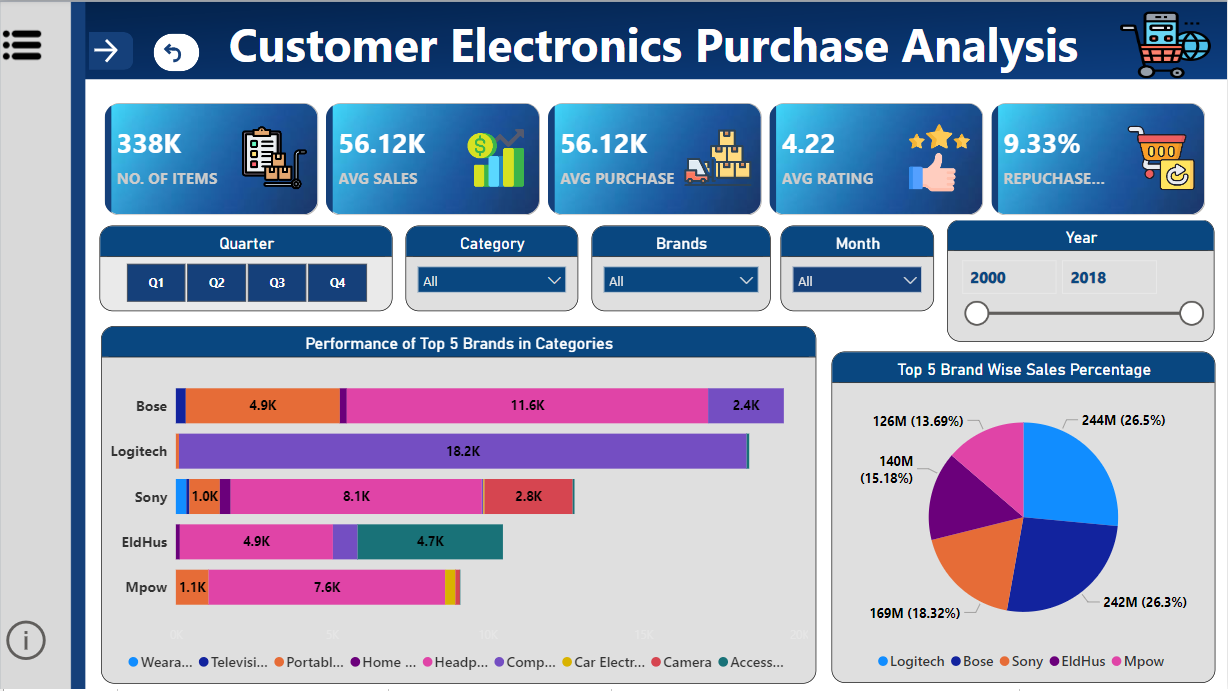

This screenshot's page, from the dashboard's own definition file:
{"tool":"powerbi","page":{"name":"HOME","canvas":[1280,720],"ordinal":0},"visuals":[{"type":"group","id":"g1","title":"HOME","box":[94.3,7.1,1174.3,705.7],"z":0},{"type":"slicer","title":"Year","fields":{"Values":["cleaned.year"]},"box":[988.3,229.8,278.8,127],"z":0,"group":"g1"},{"type":"actionButton","title":"info","box":[1.3,628.3,53.1,79.7],"z":0,"group":"g2"},{"type":"actionButton","title":"Menu","box":[0.4,0,61,95.3],"z":1000,"group":"g2"},{"type":"actionButton","title":"Close Page","box":[94.3,33.5,46.2,39.6],"z":1000,"group":"g1"},{"type":"group","id":"g2","title":"Menu bar","box":[0.4,0,61,708],"z":2000},{"type":"actionButton","title":"Reset","box":[161.9,35.1,47.8,39.6],"z":2000,"group":"g1"},{"type":"textbox","box":[234.5,7.1,1032.6,79.2],"z":4000,"group":"g1"},{"type":"image","box":[1163.2,7.1,104.7,79.7],"z":5000,"group":"g1"},{"type":"slicer","title":"Category","fields":{"Values":["cleaned.category"]},"box":[424.2,234.7,179.8,89.1],"z":6000,"group":"g1"},{"type":"slicer","title":"Month","fields":{"Values":["cleaned.Month"]},"box":[815.1,234.7,160,89.1],"z":7000,"group":"g1"},{"type":"slicer","title":"Quarter","fields":{"Values":["cleaned.Quarter"]},"box":[105.8,234.7,305.2,89.1],"z":8000,"group":"g1"},{"type":"cardVisual","fields":{"Data":["Sum(cleaned.quantity)","Avg(cleaned.amount)","cleaned.Average Order Value","Avg(cleaned.rating)","cleaned.Repeat Purchase Rate (%)"]},"box":[105.8,102.8,1161.2,127],"z":9000,"group":"g1"},{"type":"slicer","title":"Brands","fields":{"Values":["cleaned.brand"]},"box":[617.2,234.7,186.4,89.1],"z":10000,"group":"g1"},{"type":"pieChart","title":"Top 5 Brand Wise Sales Percentage","fields":{"Y":["Sum(cleaned.amount)"],"Category":["cleaned.brand"]},"box":[868.4,367.1,400,345.3],"z":11000,"group":"g1"},{"type":"barChart","title":"Performance of Top 5 Brands in Categories","fields":{"Y":["Sum(cleaned.rating)"],"Category":["cleaned.brand"],"Series":["cleaned.category"]},"box":[106.3,339.7,745.3,372.6],"z":12000,"group":"g1"}]}

Visuals, with their boxes in screenshot pixels (x1, y1, x2, y2), scaled from the page's 1280x720 canvas onto the 1228x691 screenshot:
"HOME" group: (90,7,1217,684)
"Year" slicer: (948,221,1216,342)
"info" actionButton: (1,603,52,679)
"Menu" actionButton: (0,0,59,91)
"Close Page" actionButton: (90,32,135,70)
"Menu bar" group: (0,0,59,679)
"Reset" actionButton: (155,34,201,72)
textbox: (225,7,1216,83)
image: (1116,7,1216,83)
"Category" slicer: (407,225,579,311)
"Month" slicer: (782,225,935,311)
"Quarter" slicer: (102,225,394,311)
cardVisual - Sum(cleaned.quantity) x Avg(cleaned.amount): (102,99,1216,221)
"Brands" slicer: (592,225,771,311)
"Top 5 Brand Wise Sales Percentage" pieChart: (833,352,1217,684)
"Performance of Top 5 Brands in Categories" barChart: (102,326,817,684)
